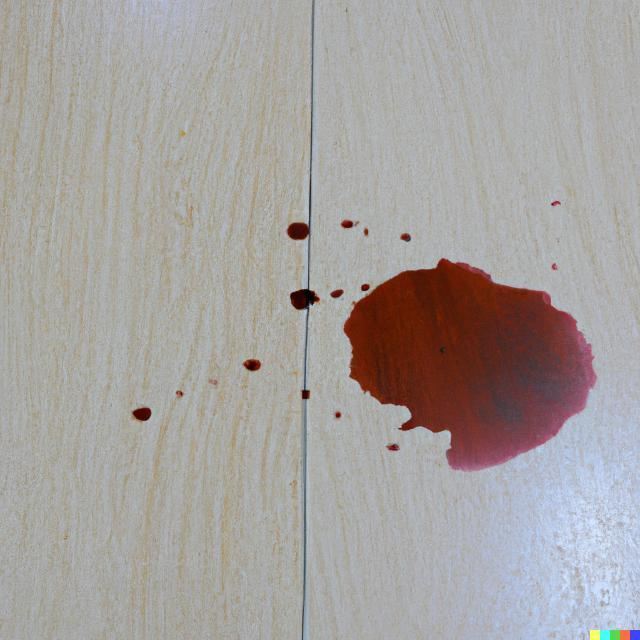blood: (343, 258, 597, 471), (289, 289, 319, 309), (286, 222, 309, 240), (132, 407, 151, 421), (242, 359, 261, 371), (330, 289, 344, 298), (340, 219, 353, 228), (361, 284, 370, 291)
